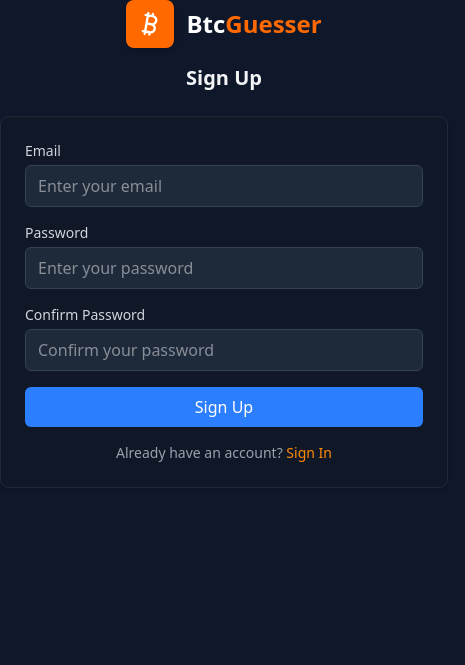
Test: SignUpForm › password validation › should validate password on submit
In the field labelled "Email": (224, 186) [25,165,423,207], type "test@example.com"
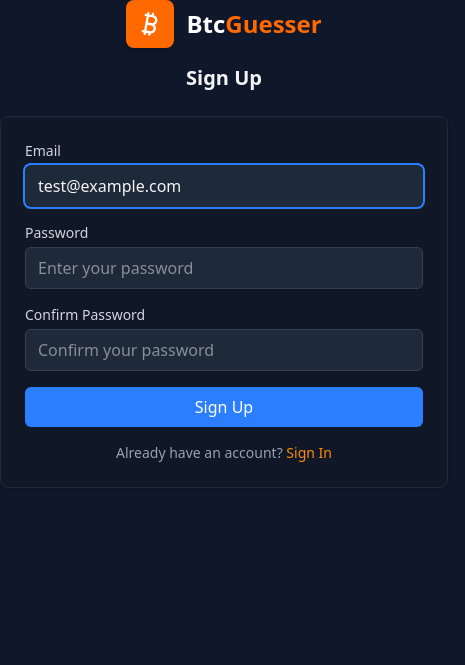
In the password field labelled "Password": (224, 268) [25,247,423,289], type "weak"
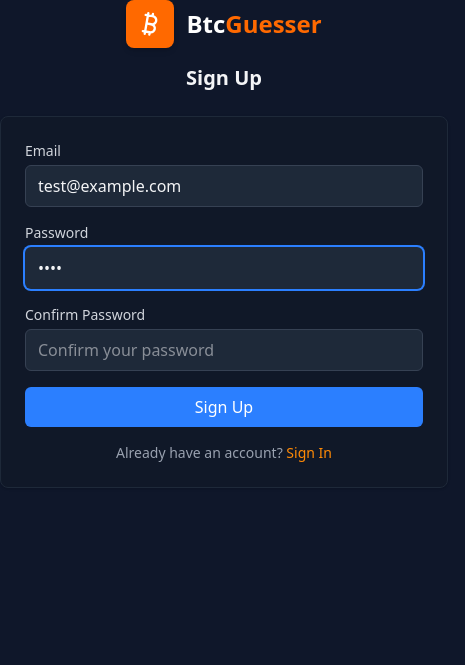
In the password field labelled "Confirm Password": (224, 350) [25,329,423,371], type "weak"
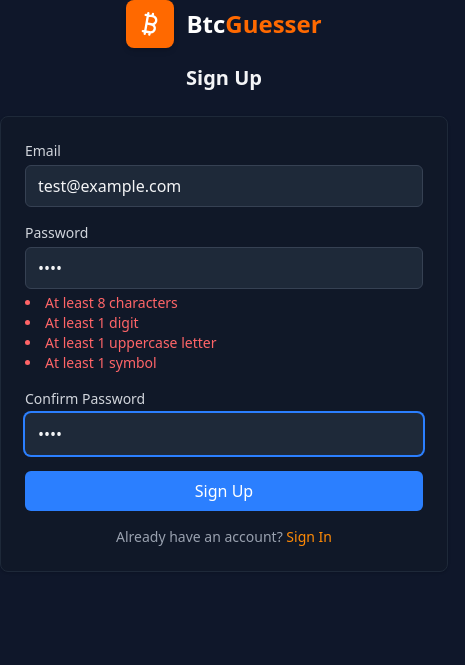
Click the button "Sign Up": (224, 491) [25,471,423,511]
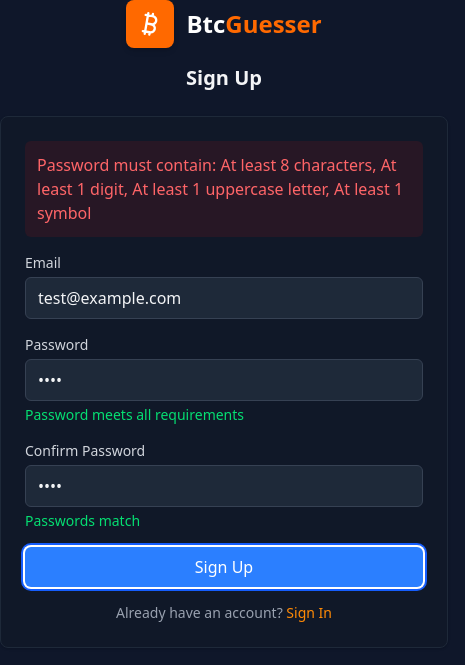
Result: the text "Password must contain:" is shown at [37,154,403,224]
